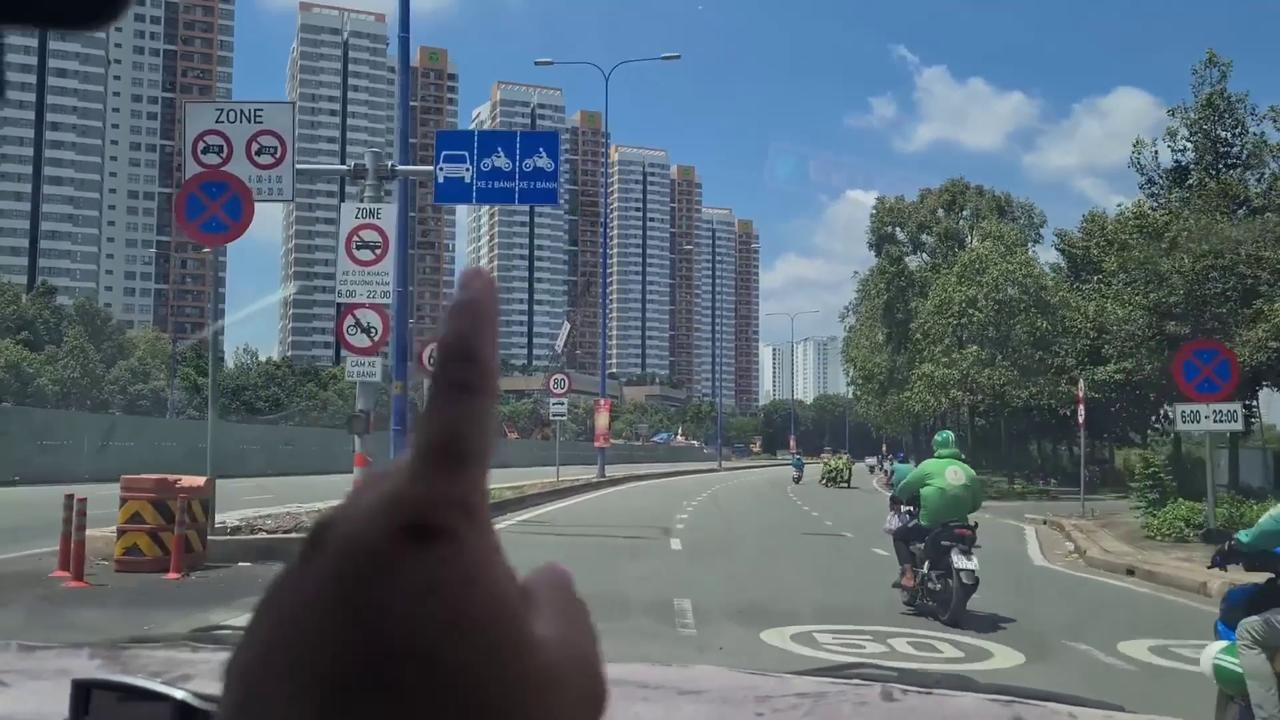Biển phụ: (1172, 399, 1249, 434), (344, 357, 382, 384), (550, 396, 568, 421)
Cấm cac phương tiện hoạt động trong khung giờ cố định: (178, 98, 296, 204), (333, 199, 394, 305)
Cấm dừng - Cấm đỗ: (170, 169, 256, 248), (1170, 337, 1241, 401)
Cấm xe máy: (336, 301, 389, 358)
Giới hạn tốc độ 80Km/h: (545, 370, 572, 398)
Làn đường cho từng xe: (433, 128, 562, 206)
